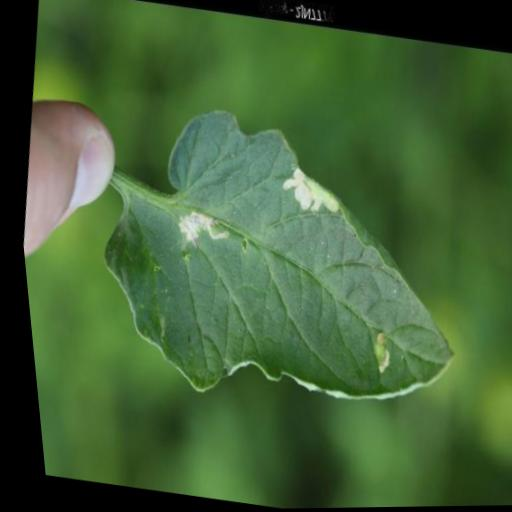Leaf_Miner: (61, 86, 488, 436)
